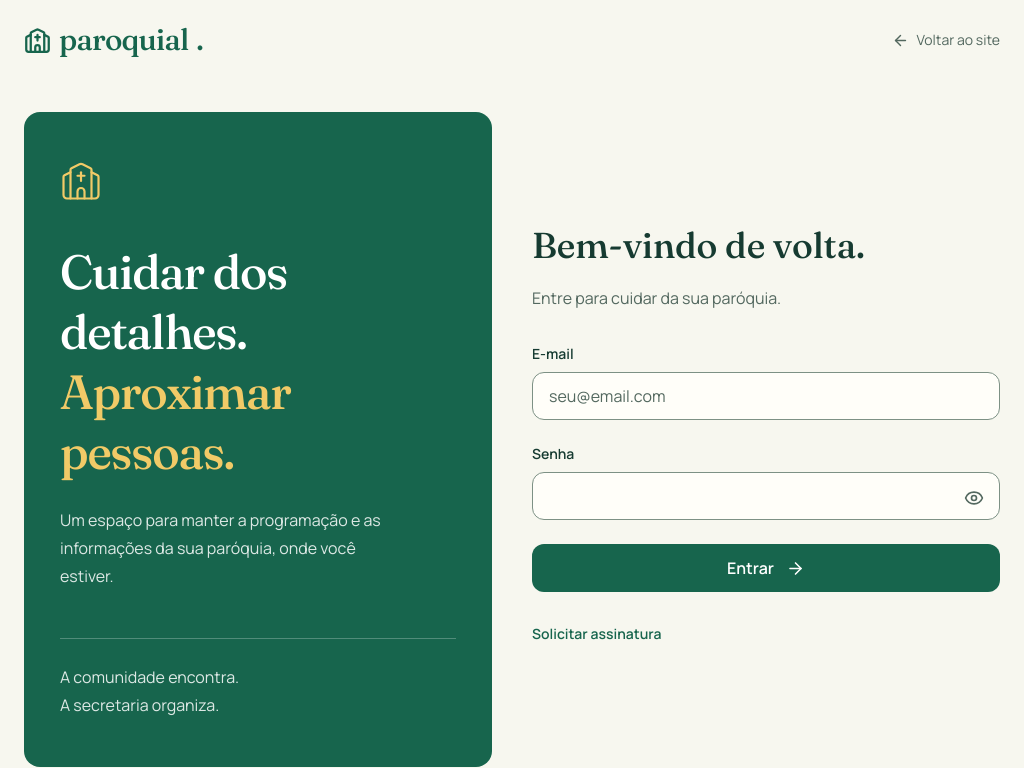
Login › explica ausência de vínculo administrativo
Type " admin@example.com " into the field labelled "E-mail".
click(766, 396); type(" admin@example.com ")  # box top-left (532, 372), bottom-right (1000, 420)
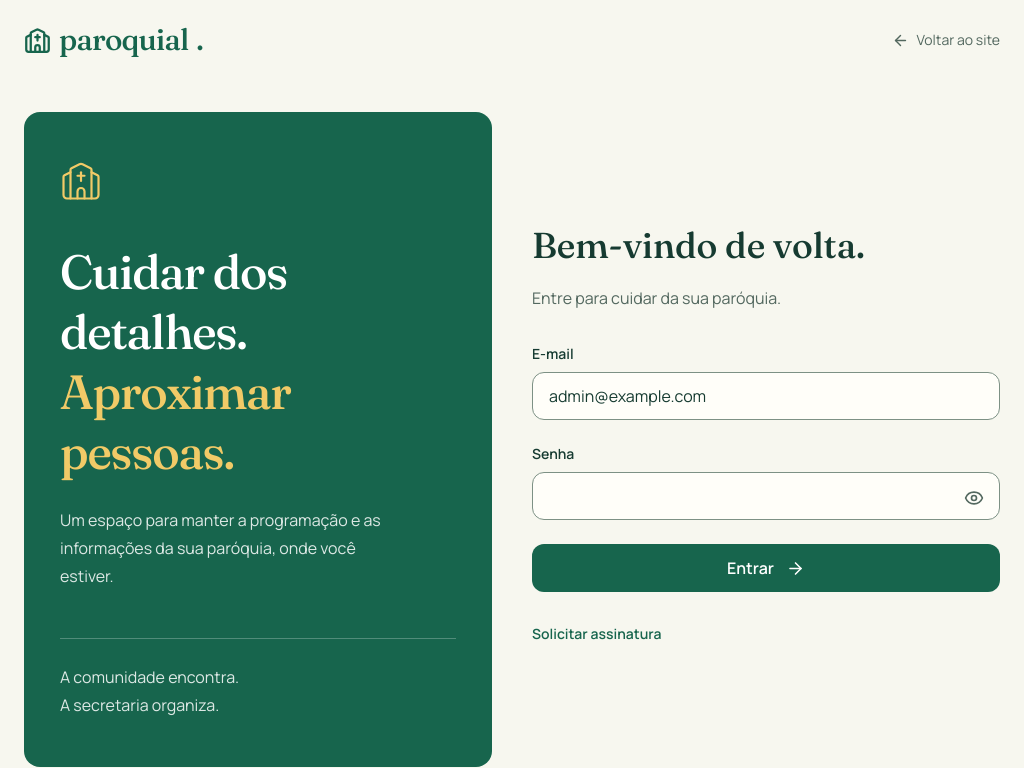
Type "minha-senha" into the password field labelled "Senha".
click(766, 496); type("minha-senha")  # box top-left (532, 472), bottom-right (1000, 520)
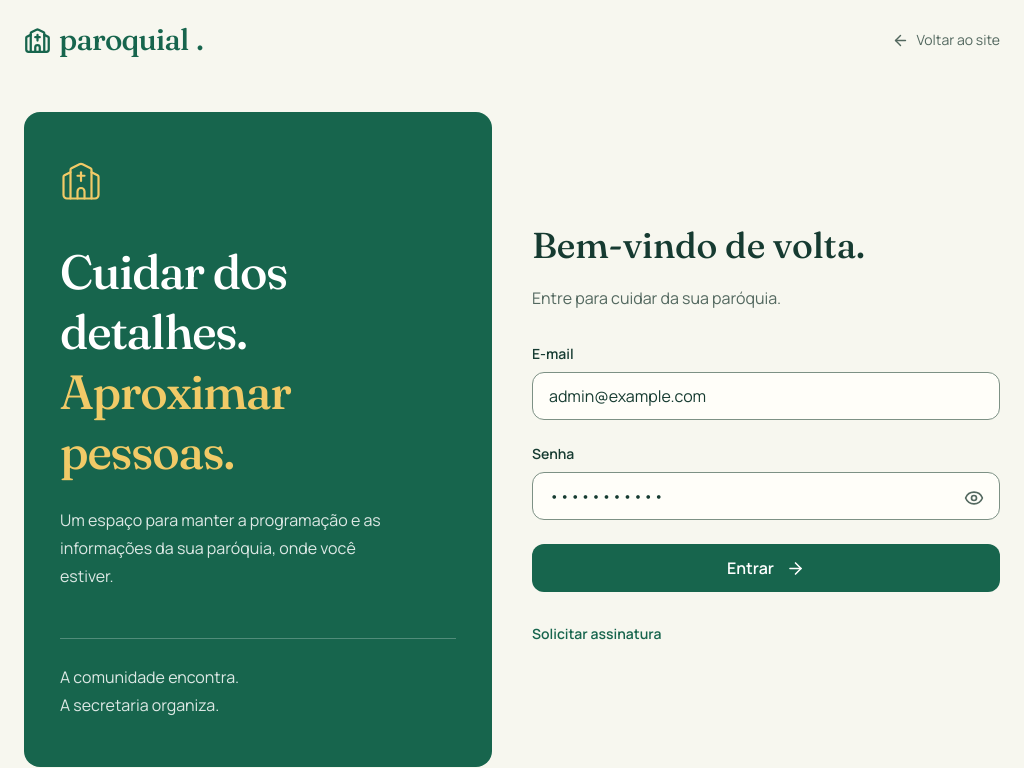
Click the button "Entrar".
click(766, 568)  # box top-left (532, 544), bottom-right (1000, 592)
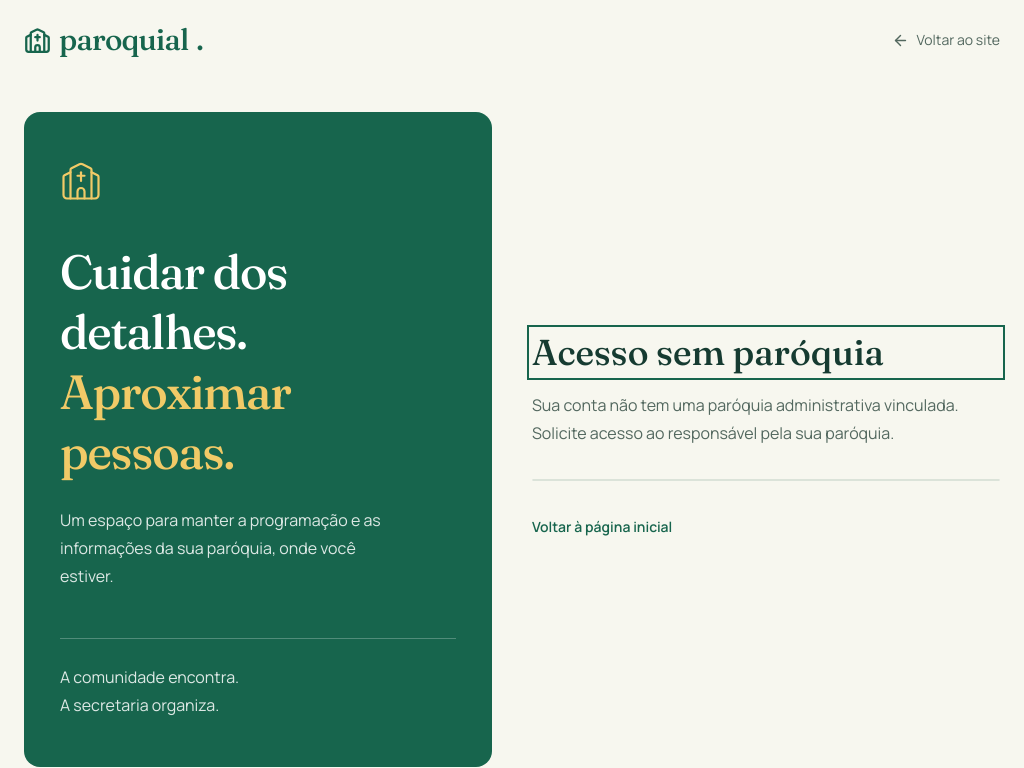
Expected: the heading "Acesso sem paróquia" is shown, top-left (532, 330), bottom-right (884, 374)
Expected: the button "Entrar" is gone
